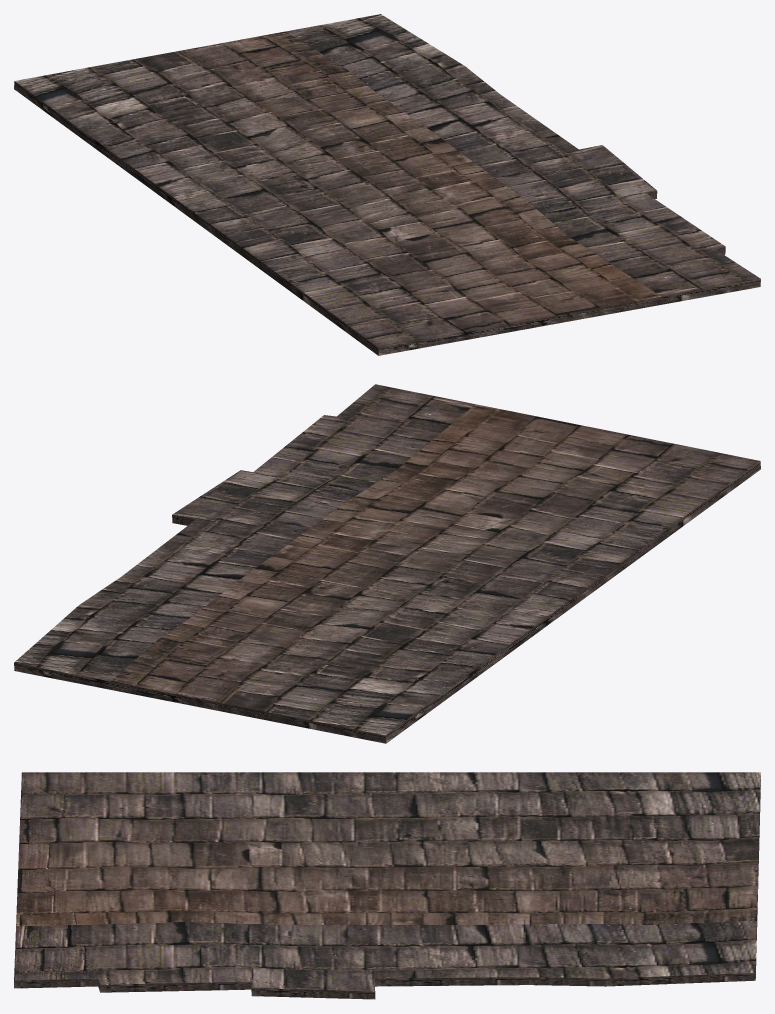
File: room_roof_outside.fbx
The picture shows the model from 3 angles, top to bottom: view 1: azimuth 30°, elevation 25°; view 2: azimuth 150°, elevation 25°; view 3: azimuth 270°, elevation 25°; orthographic projection. The views are drawn at different scales.
Visible parts, largest first — view 1: room_roof; view 2: room_roof; view 3: room_roof.
Part boxes in pixels (x1,y1,x2,y2): room_roof: [14, 14, 760, 355]; room_roof: [14, 384, 760, 743]; room_roof: [14, 772, 760, 999].
Size of the model in its own units: 329 by 23.54 by 526.
